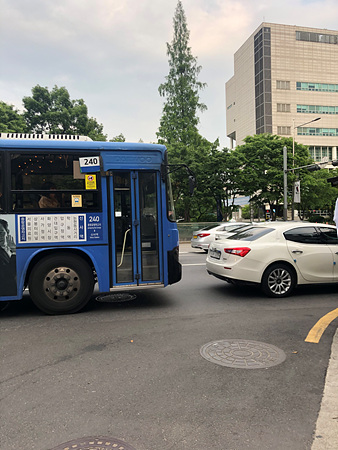entrance: (105, 163, 163, 288)
